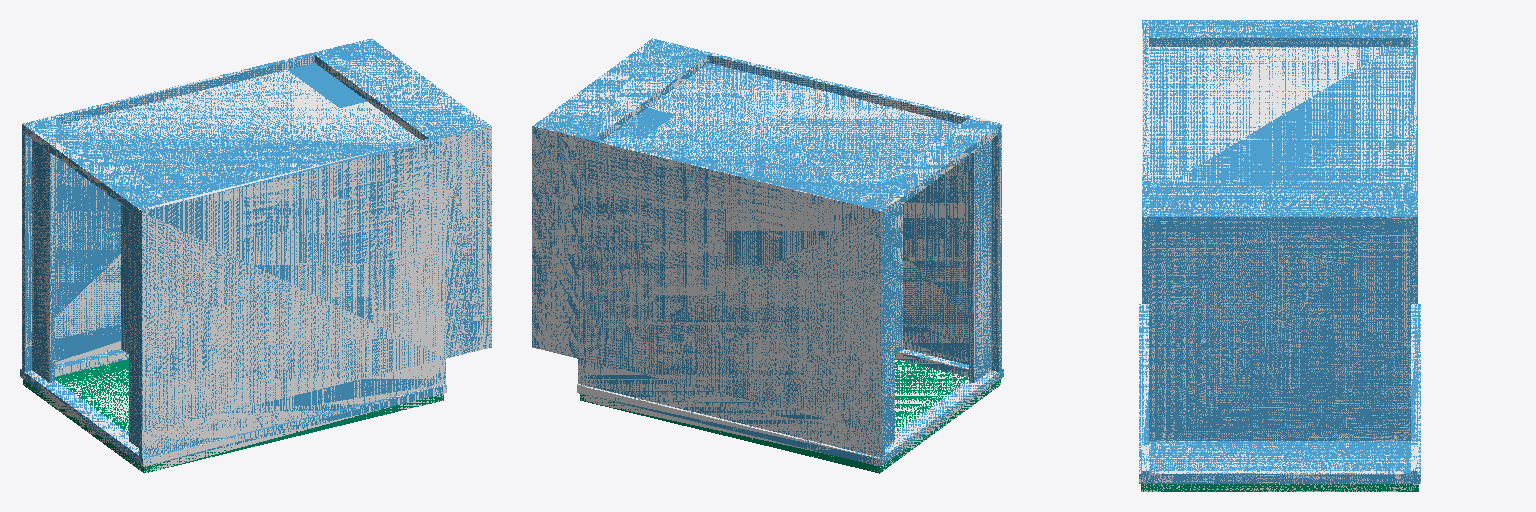
robot.urdf — right-pull-door:
<?xml version="1.0" ?>
<robot name="right-pull-door">
	<link name="base"/>
	<link name="link_0">
		<visual name="out-frame">
			<origin xyz="0 0 0"/>
			<geometry>
				<mesh filename="texture_dae/frame.dae" scale="0.8 0.8 0.8"/>
			</geometry>
		</visual>
		<collision>
			<origin xyz="0 0 0"/>
			<geometry>
				<mesh filename="texture_dae/frame.dae" scale="0.8 0.8 0.8"/>
			</geometry>
		</collision>
	</link>
	<joint name="joint_0" type="fixed">
		<origin rpy="1.570796326794897 0 -1.570796326794897" xyz="0 0 0"/>
		<child link="link_0"/>
		<parent link="base"/>
	</joint>
	<link name="link_1">
		<visual name="surf-board">
			<origin xyz="0.6859817028045655 -0.49231352920468635 0"/>
			<geometry>
				<mesh filename="texture_dae/board.dae" scale="0.8 0.8 0.8"/>
			</geometry>
		</visual>
		<collision>
			<origin xyz="0.6859817028045655 -0.49231352920468635 0"/>
			<geometry>
				<mesh filename="texture_dae/board.dae" scale="0.8 0.8 0.8"/>
			</geometry>
		</collision>
	</link>
	<joint name="joint_1" type="revolute">
		<origin xyz="-0.6859817028045655 0.49231352920468635 0"/>
		<axis xyz="0 -1 0"/>
		<child link="link_1"/>
		<parent link="link_0"/>
		<limit lower="0" upper="1.5079644737231006"/>
	</joint>
	<link name="link_2">
		<visual name="handle">
			<origin xyz="0 0 0"/>
			<geometry>
				<mesh filename="texture_dae/9962039.dae" scale="1.332499208068595 1.332499208068595 1.332499208068595"/>
			</geometry>
		</visual>
		<collision>
			<origin xyz="0 0 0"/>
			<geometry>
				<mesh filename="texture_dae/9962039.dae" scale="1.332499208068595 1.332499208068595 1.332499208068595"/>
			</geometry>
		</collision>
	</link>
	<joint name="joint_2" type="revolute">
		<origin xyz="0.6859817028045655 -0.49231352920468635 0.013228154473432653"/>
		<child link="link_2"/>
		<parent link="link_1"/>
		<axis xyz="0 0 1"/>
		<limit lower="0" upper="1.5079644737231006"/>
	</joint>
</robot>

--- Render facts (derived) ---
3 views of the same robot in one strip: view 1: azimuth 30°, elevation 25°; view 2: azimuth 150°, elevation 25°; view 3: azimuth 270°, elevation 25° (orthographic).
Robot: right-pull-door — 4 links, 3 joints (2 revolute, 1 fixed); root link base; default pose: all joints at 0.
Visible links, largest first — view 1: link_0, link_1; view 2: link_0, link_1; view 3: link_0, link_1.
Link boxes in pixels (x1,y1,x2,y2): link_0: (20,38,491,466); link_1: (23,359,443,473); link_0: (532,38,1003,466); link_1: (580,359,1000,473); link_0: (1139,20,1420,483); link_1: (1141,484,1418,491).
Bounding box of the posed robot: 1.23 × 0.7484 × 0.8818 m (x, y, z).
Meshes: 3 distinct files referenced, 2 mesh visuals loaded (2 Collada DAE); not drawn: 1 (reference not matched to a file when rendering).
